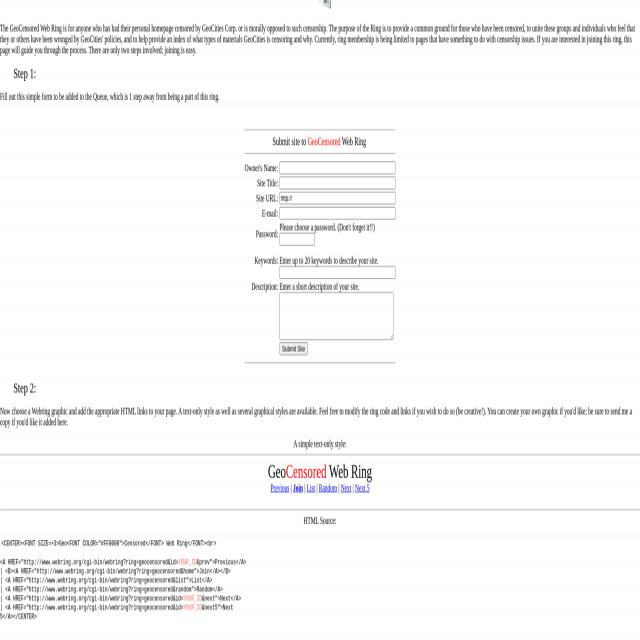button: (280, 343, 308, 355)
field: (280, 292, 393, 340), (279, 207, 395, 220), (279, 266, 395, 279), (279, 162, 395, 174), (279, 177, 395, 189), (279, 192, 395, 204), (279, 233, 315, 246)
